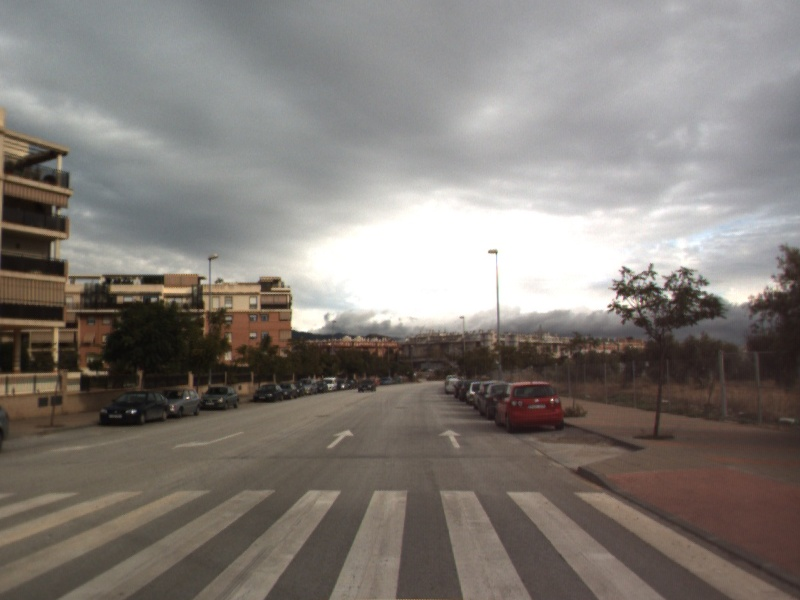STRAIGHT: (325, 427, 356, 450), (437, 427, 464, 450)
